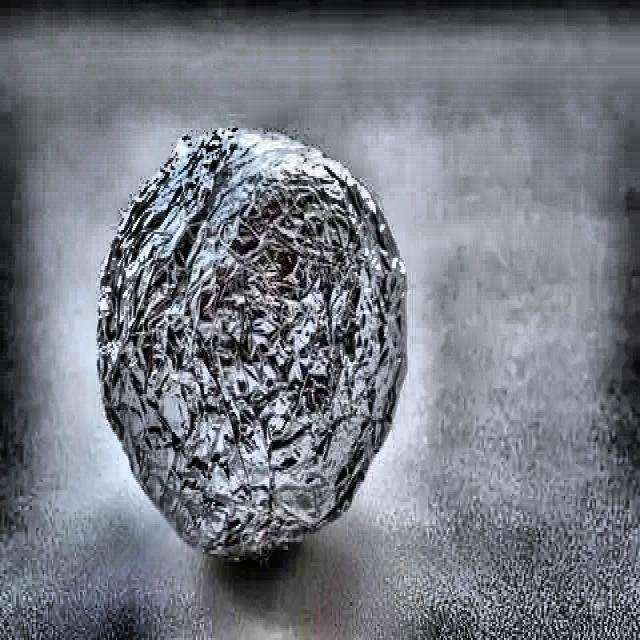Foil: (77, 101, 425, 566)
